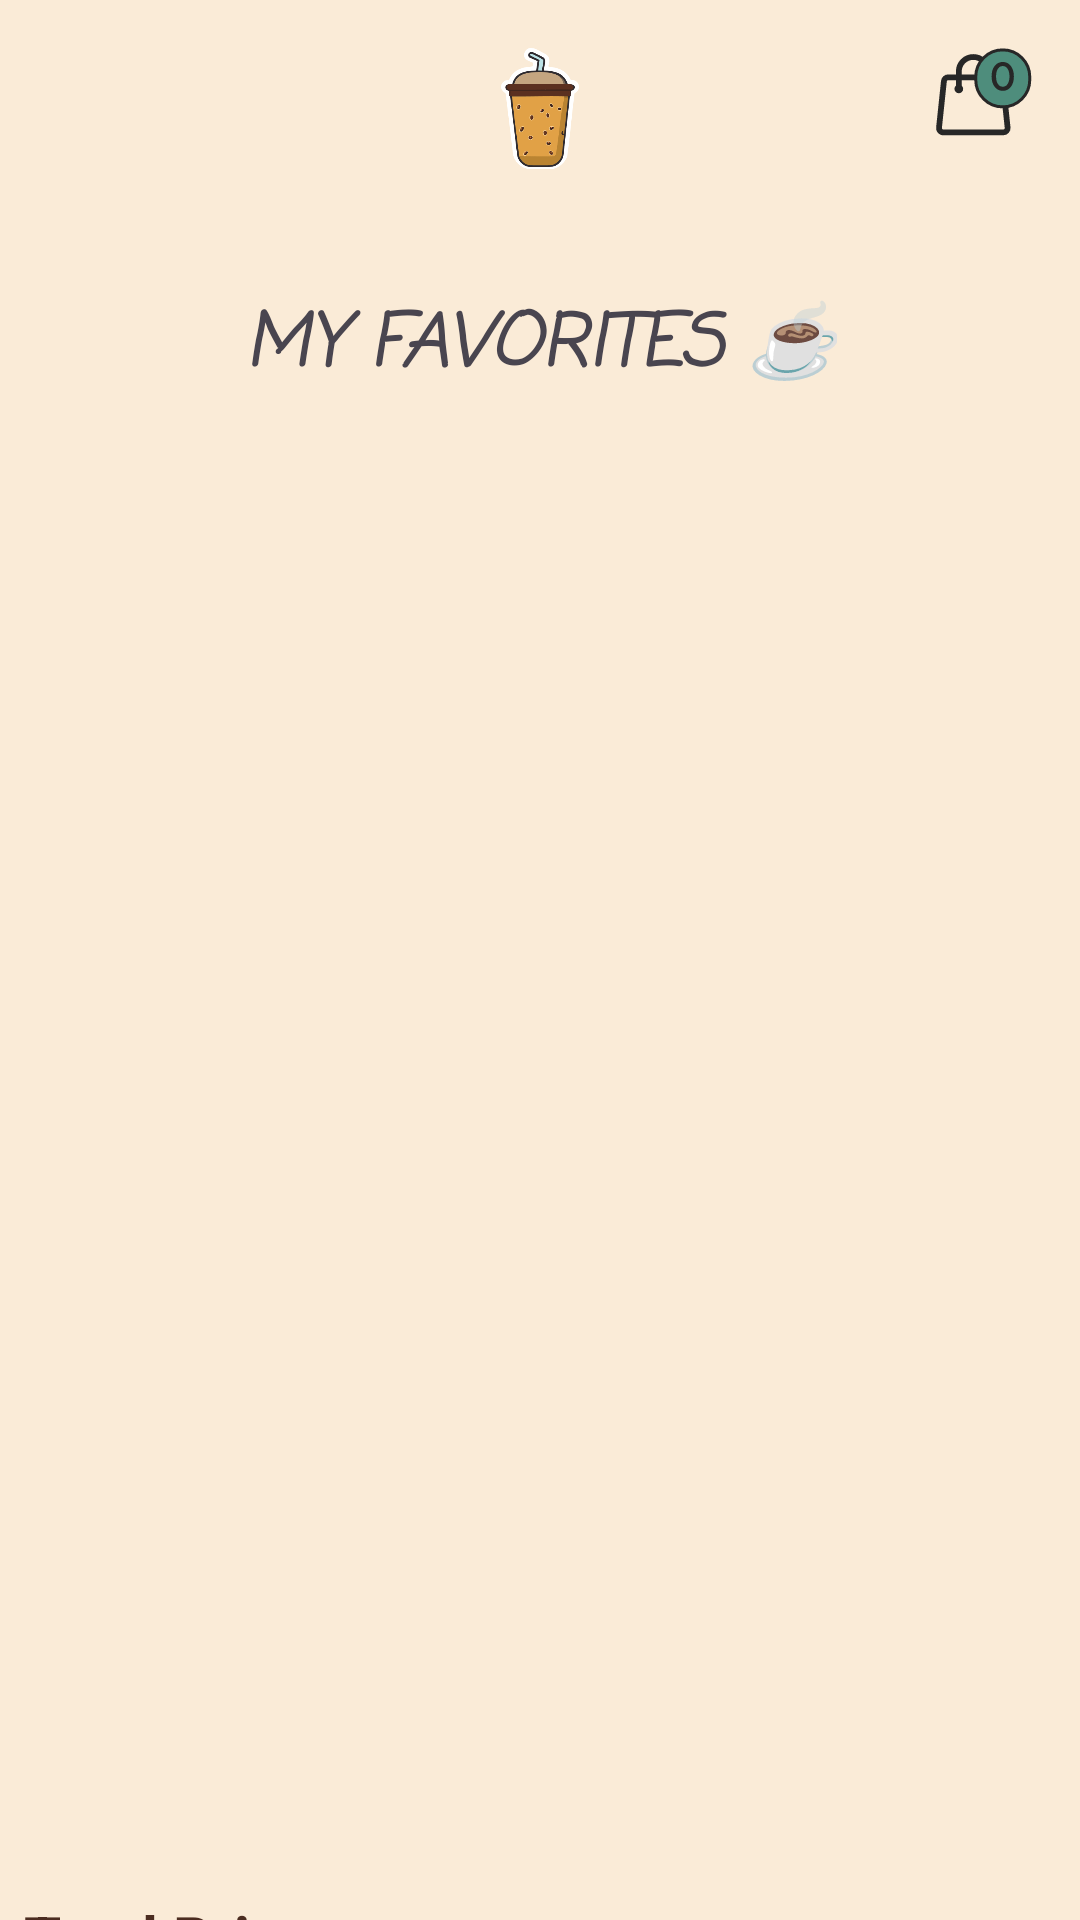

Point at icon controls on the screen. Image size 1080×1920, points as (x=x, y=y).
basket: (x=984, y=92)
